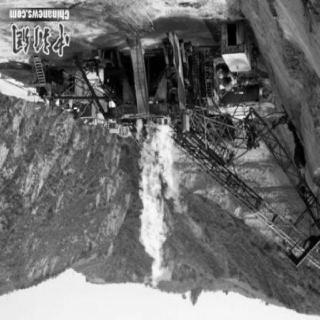Fire: (130, 111, 191, 291), (145, 96, 159, 108), (140, 44, 148, 57)
other: (9, 24, 75, 60)
